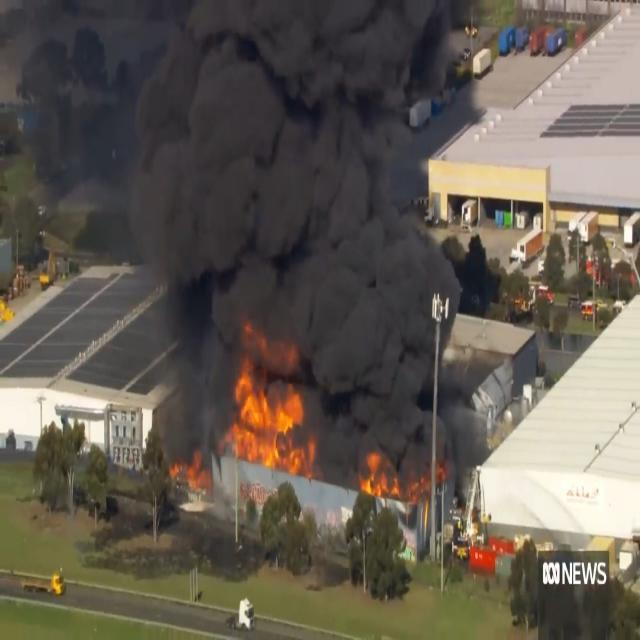fire: (228, 326, 318, 471), (360, 448, 442, 499), (180, 447, 212, 514)
